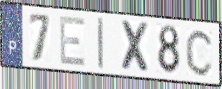7: (28, 13, 53, 64)
8: (155, 23, 182, 76)
C: (184, 27, 215, 78)
E: (58, 15, 87, 68)
I: (96, 16, 105, 71)
X: (119, 18, 153, 75)
